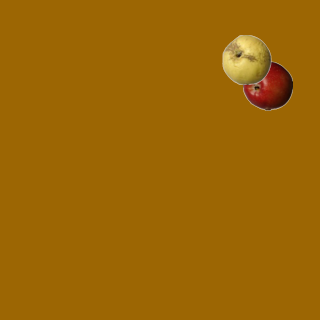Apple Braeburn: (242, 60, 292, 110)
Apple Golden 1: (221, 34, 271, 84)
